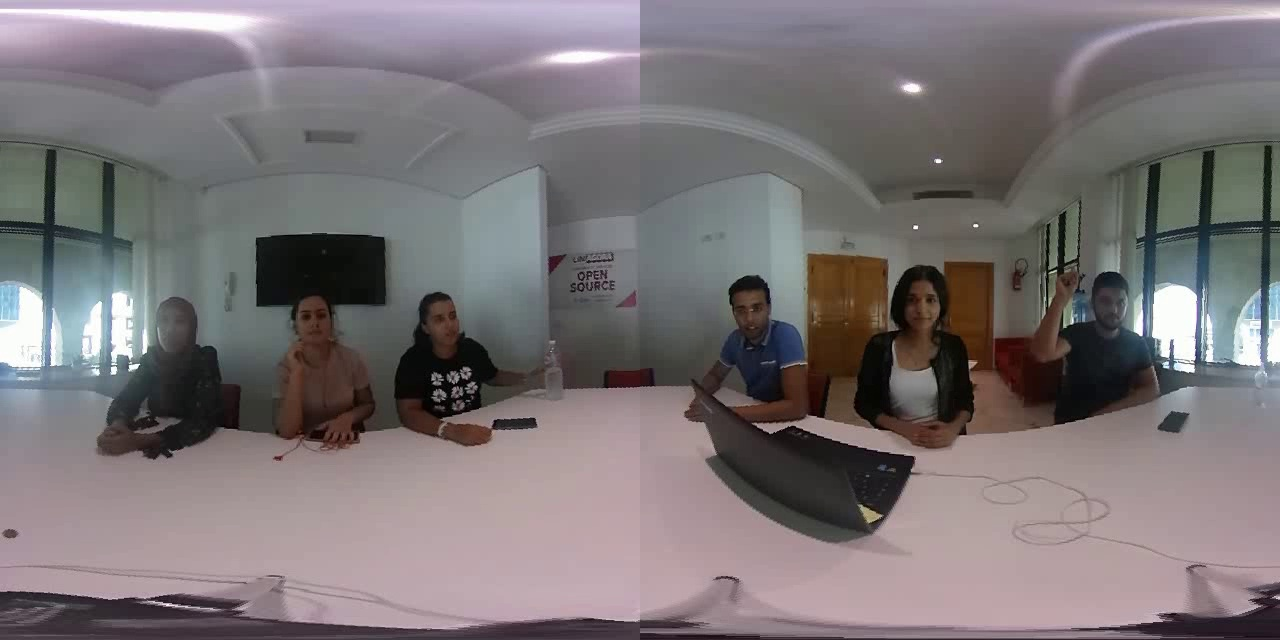hand_up: (1020, 254, 1089, 368)
person: (849, 259, 989, 438), (383, 280, 531, 441), (98, 292, 235, 462), (694, 271, 820, 421), (268, 292, 386, 450)
